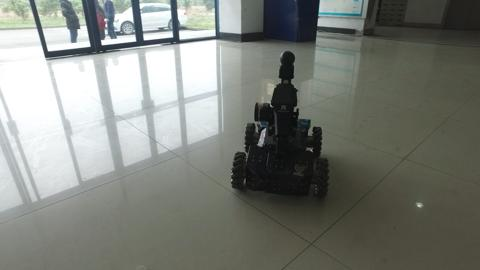car: (101, 1, 189, 36)
chariot: (230, 49, 331, 201)
